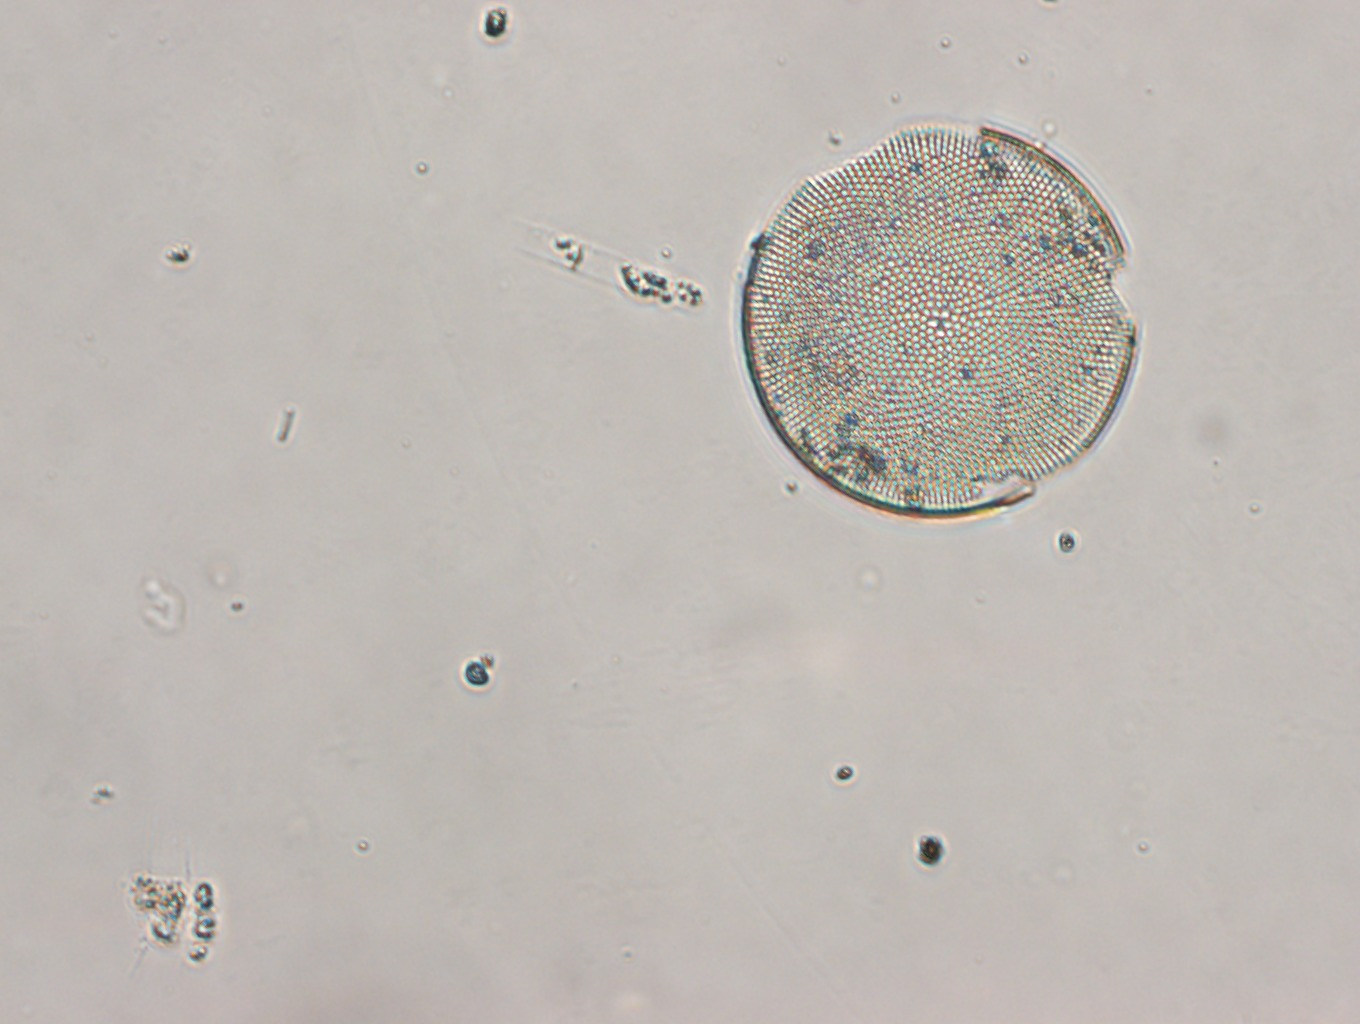coscinodiscus: (736, 120, 1139, 525)
